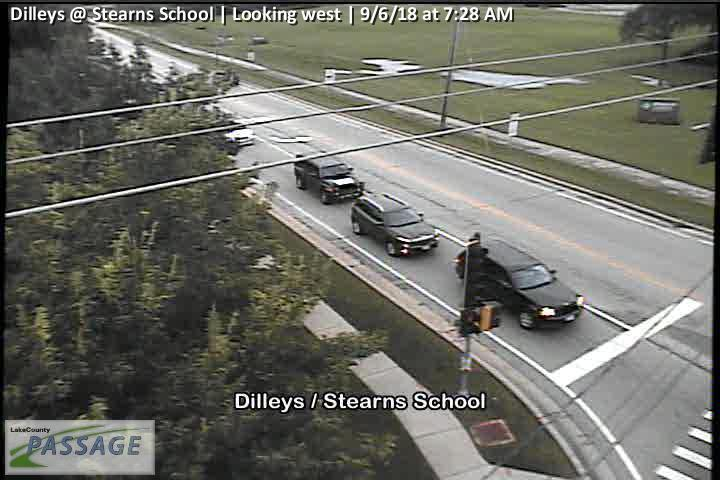SUV: (455, 240, 584, 330), (352, 193, 440, 257), (295, 150, 365, 205)
